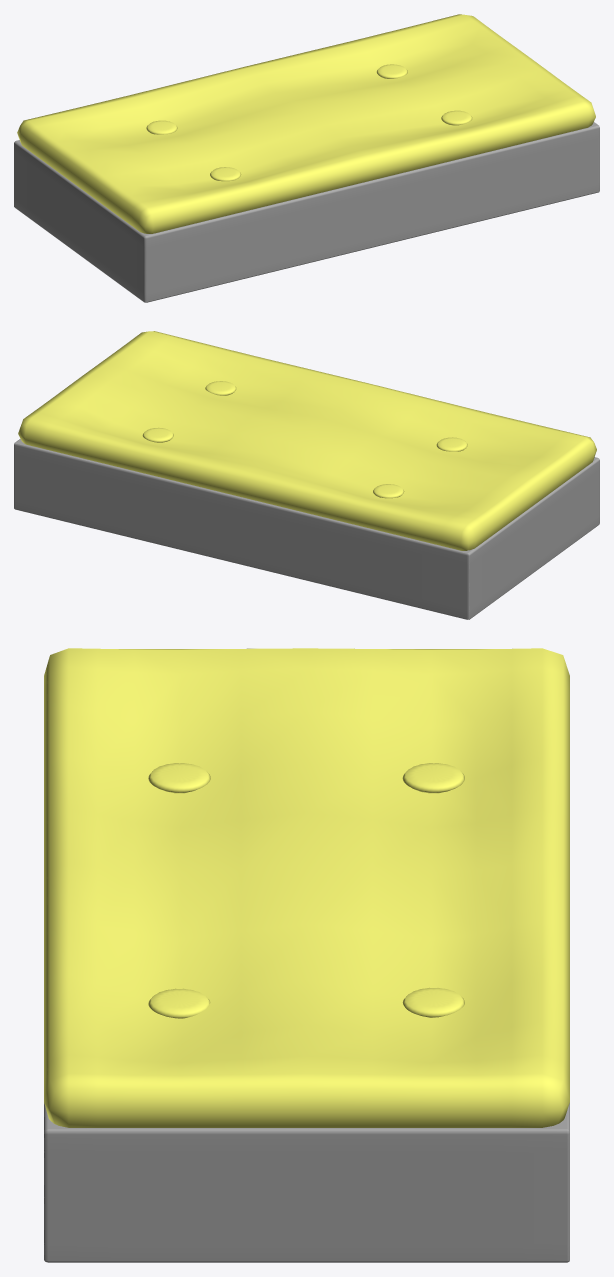
Rendered from SittBlock.fbx.
3 renders of one model, top to bottom at view 1: azimuth 30°, elevation 25°; view 2: azimuth 150°, elevation 25°; view 3: azimuth 270°, elevation 25°, orthographic. The views are drawn at different scales.
Visible parts, largest first — view 1: pasted__pCylinder1, pCube1; view 2: pasted__pCylinder1, pCube1; view 3: pasted__pCylinder1, pCube1.
Part boxes in pixels (x1,y1,x2,y2): pasted__pCylinder1: [17, 14, 595, 233]; pCube1: [14, 122, 599, 302]; pasted__pCylinder1: [18, 331, 596, 550]; pCube1: [14, 439, 599, 619]; pasted__pCylinder1: [44, 648, 569, 1127]; pCube1: [44, 1103, 569, 1262].
Size of the model in its own units: 50 by 9.39 by 25.
